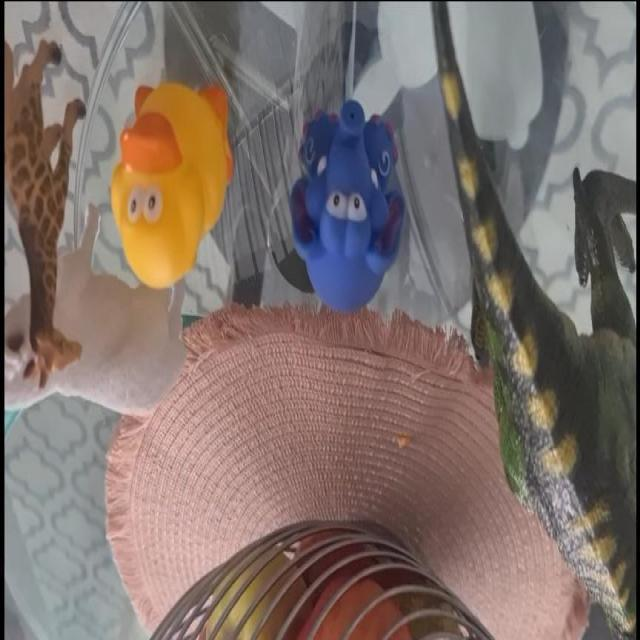hard-toy: (434, 5, 636, 637), (6, 42, 84, 385), (112, 84, 234, 289), (292, 101, 405, 310)
